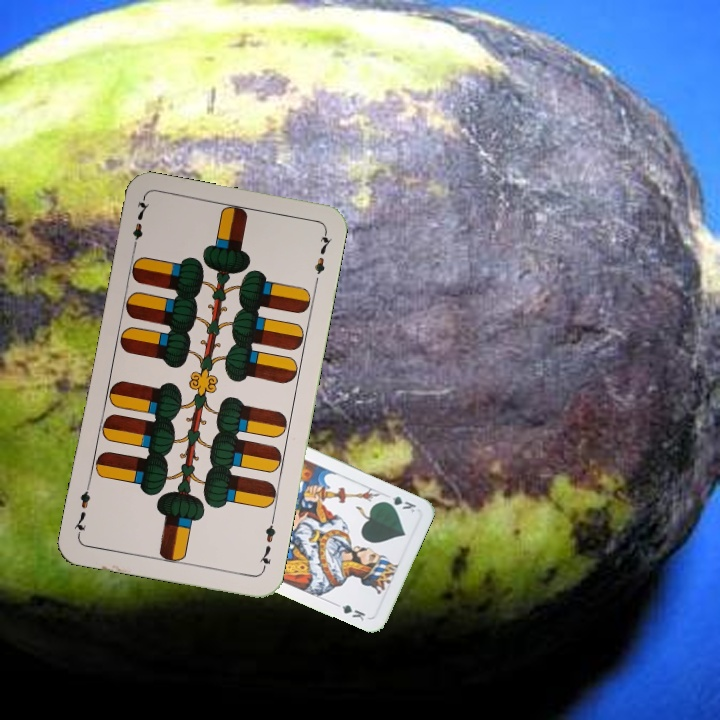E7: (255, 514, 278, 573), (128, 195, 151, 254)
GK: (379, 491, 418, 516)
